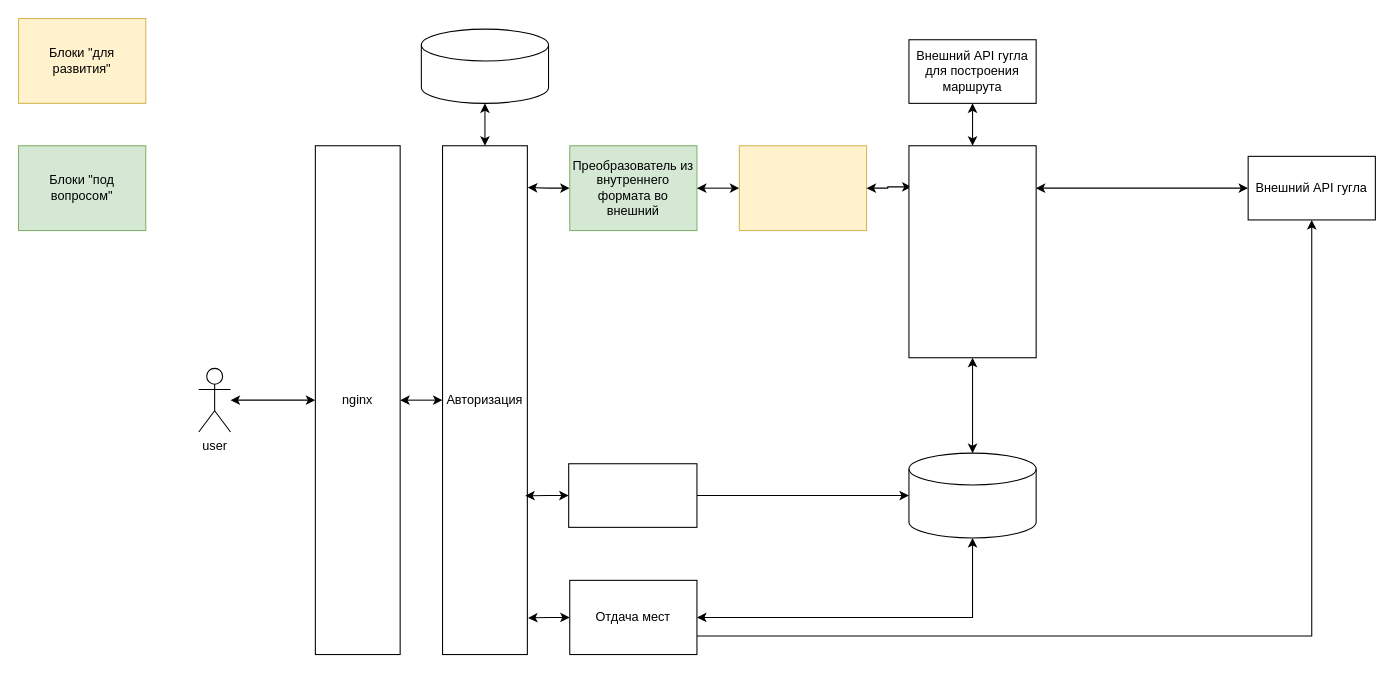
This 1394x673 diagram has some shape labels left out. Each missing label, with the centre of its shape:
"Балансировщик" goes at (x=802, y=188).
"Места" goes at (x=972, y=495).
"Определитель маршрута" goes at (x=972, y=251).
"Отметка мест" goes at (x=632, y=495).
"Пользователи" goes at (x=484, y=65).
